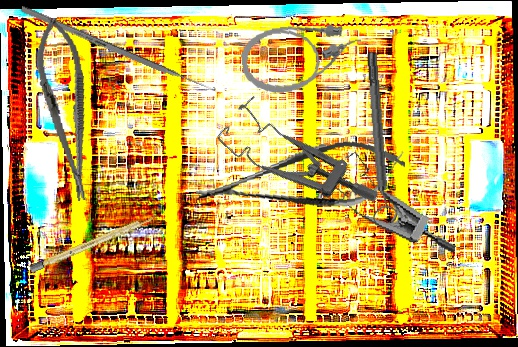Cannula: (238, 17, 367, 98)
Fixation Ring: (359, 50, 399, 225)
Micro Scissor: (191, 132, 410, 226)
Needle Holder: (29, 15, 103, 204)
Pusher: (20, 5, 220, 96)
Scalpel Handle: (28, 212, 158, 274)
Speculum: (212, 83, 382, 246), (316, 145, 474, 256)
